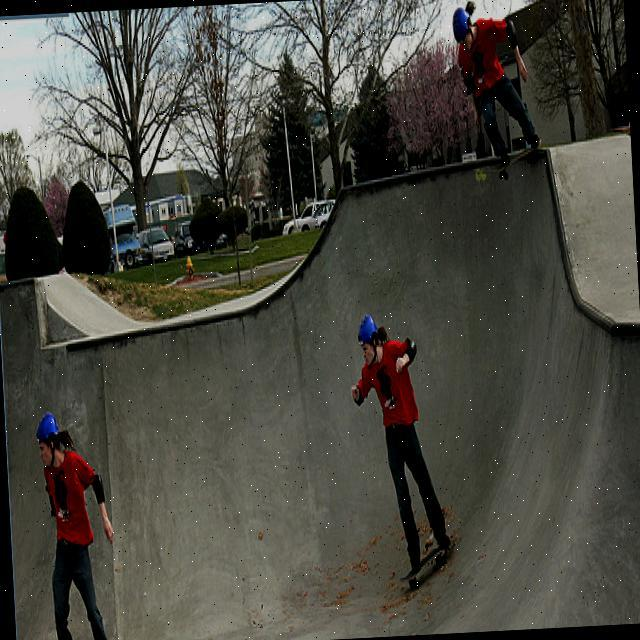fire_hydrant: (184, 253, 194, 280)
